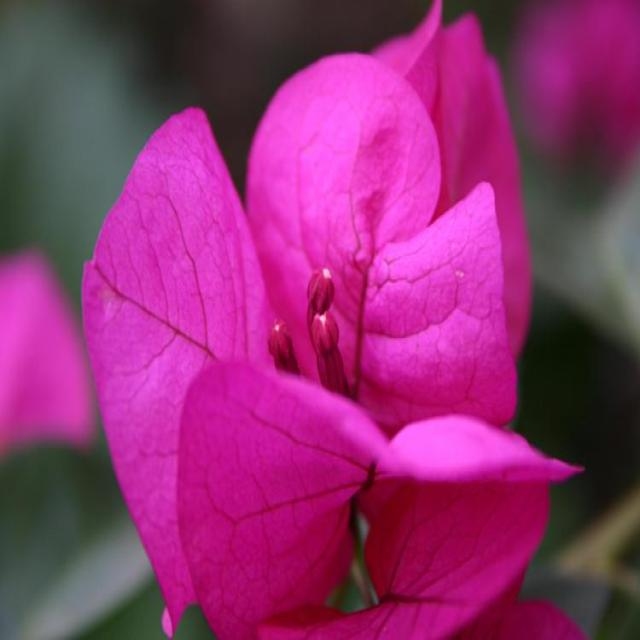bougainvillea: (79, 19, 612, 640)
